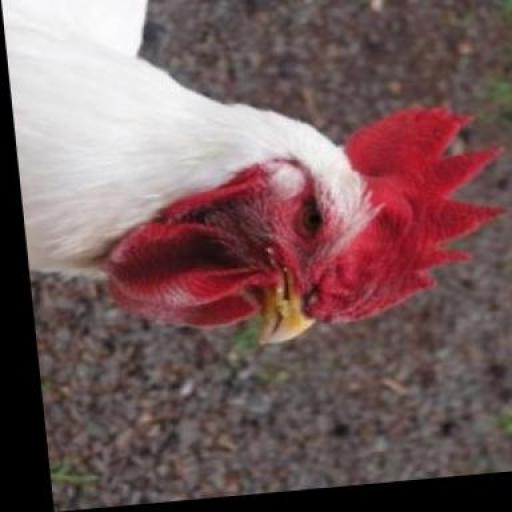disease: (236, 143, 351, 314)
